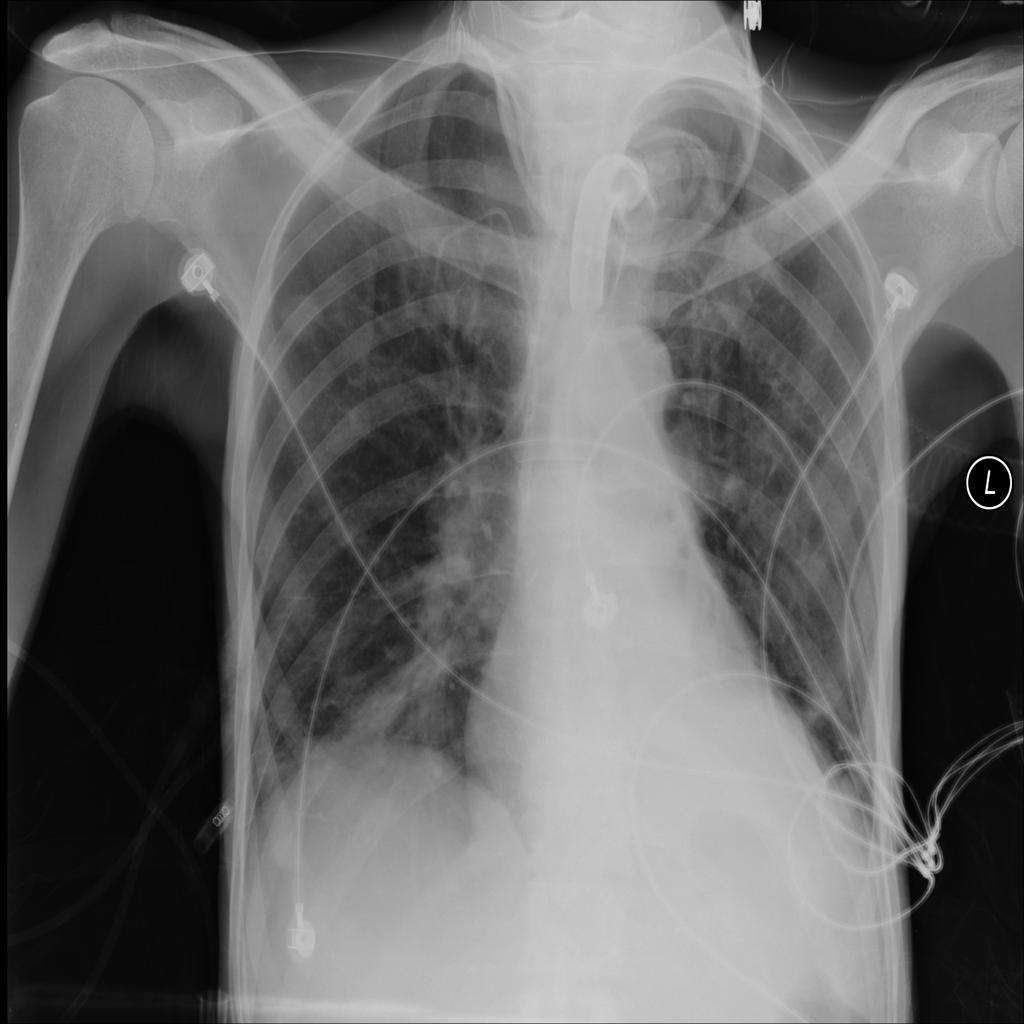nodule: (267, 279, 337, 353)
